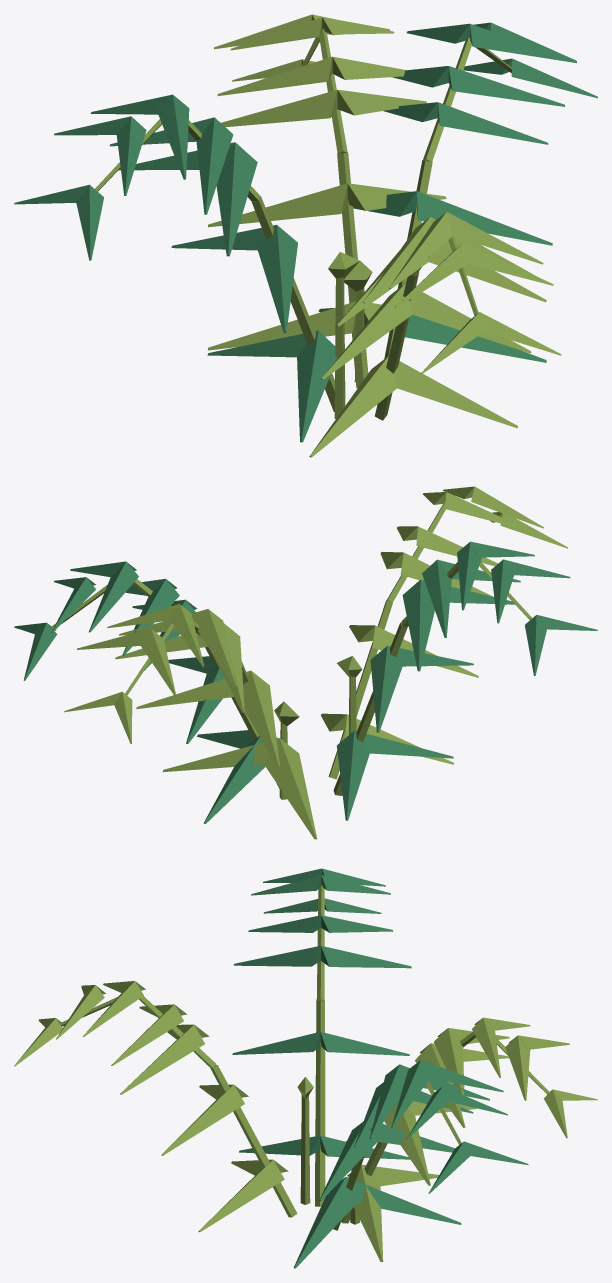
File: bracken_a.glb
3 renders of one model, top to bottom at view 1: azimuth 30°, elevation 25°; view 2: azimuth 150°, elevation 25°; view 3: azimuth 270°, elevation 25°, orthographic. The views are drawn at different scales.
Visible parts, largest first — view 1: BrackenA; view 2: BrackenA; view 3: BrackenA.
Part boxes in pixels (x1,y1,x2,y2): BrackenA: [14, 14, 597, 457]; BrackenA: [14, 486, 597, 839]; BrackenA: [14, 868, 597, 1268].
Bounding box in the file's own units: 1.82 × 1 × 1.95.
